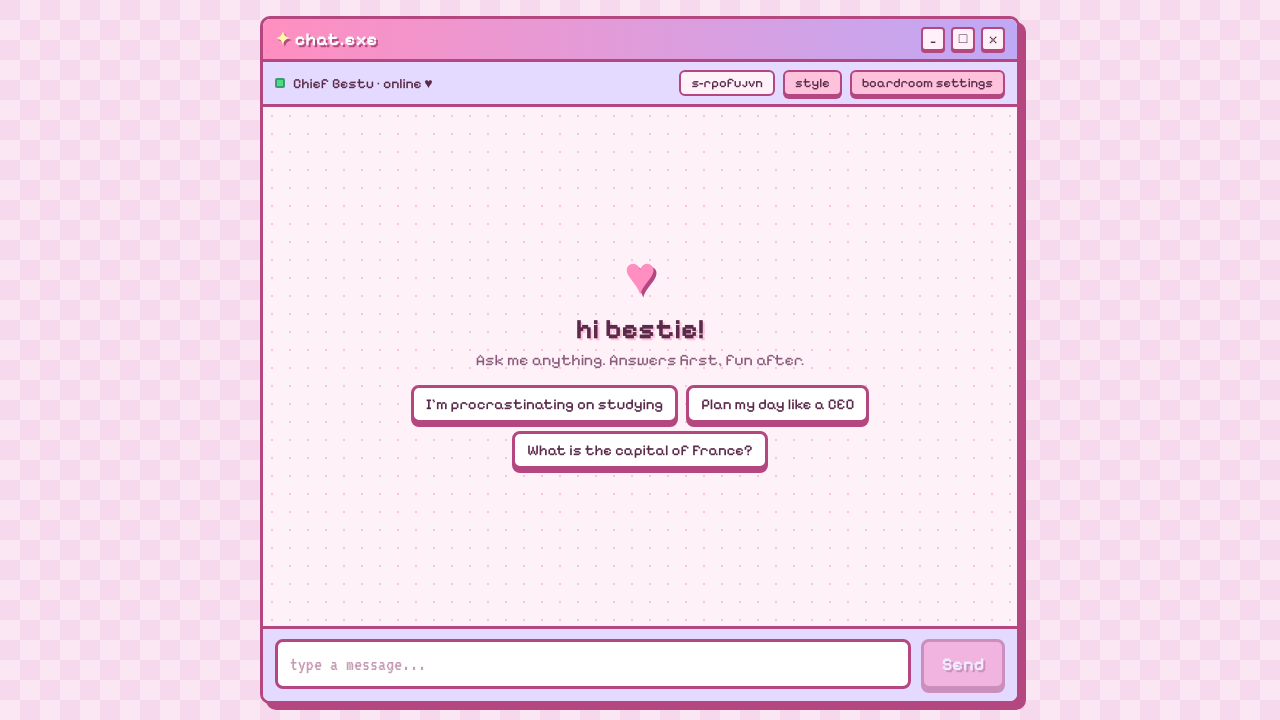
Test case: 503 and network failure are shown as readable errors
The image size is (1280, 720).
Step 1. Type "one" into the text box with test id "chat-input" → (593, 664), box [275,639,911,689]
Then press Enter
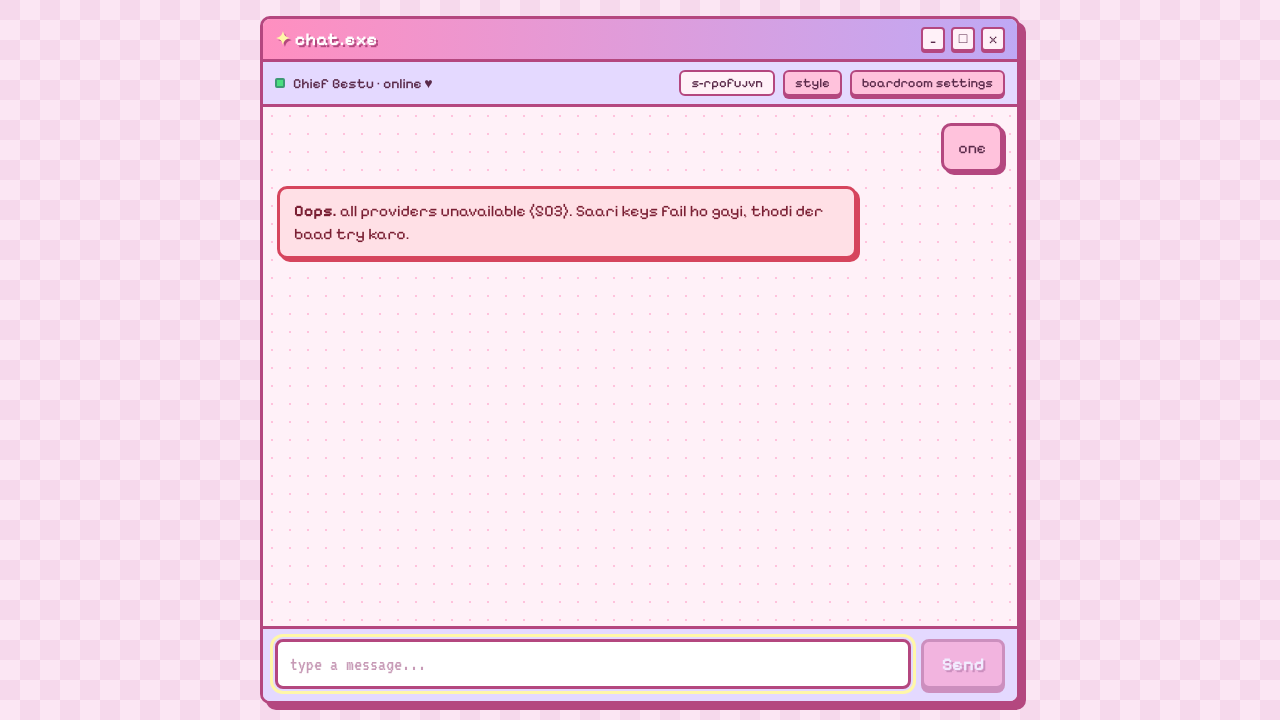
Expected: the message shows "all providers unavailable", [294,201,826,243]
Step 2. Type "two" into the text box with test id "chat-input" → (593, 664), box [275,639,911,689]
Then press Enter
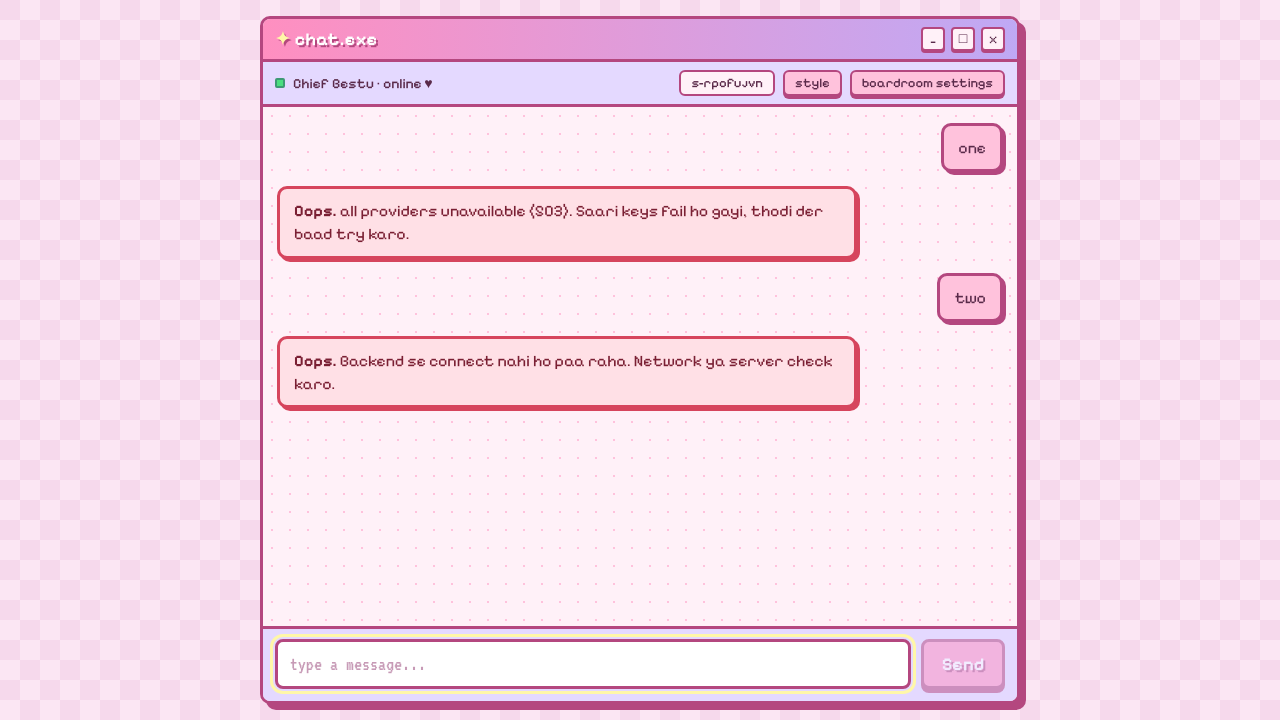
Expected: the number of messages is 2, [277,186,857,259]; [277,336,857,408]
Expected: the message "Oops. Backend se connect nahi ho paa raha. Network ya server check karo." is shown, [277,336,857,408]
